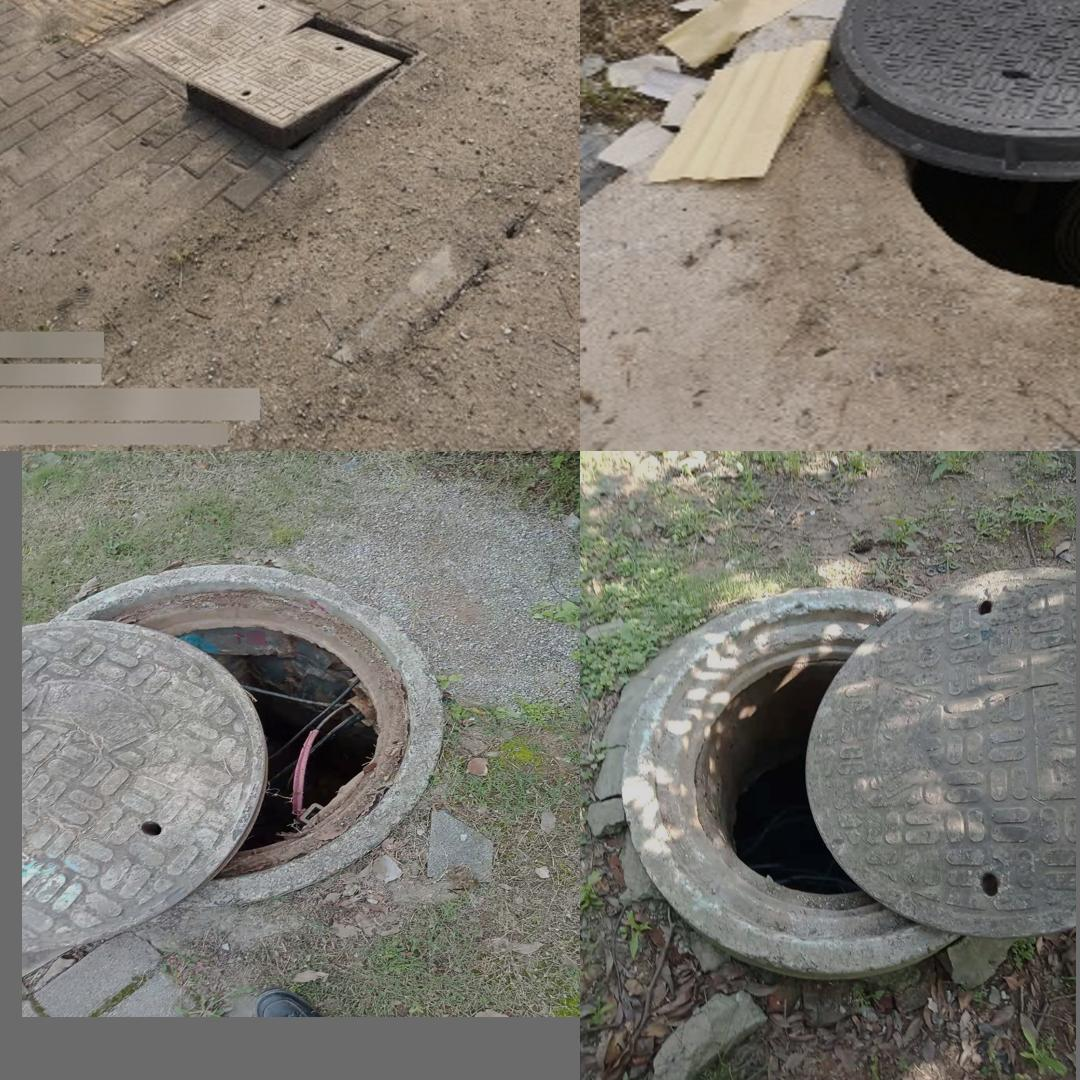uncovered: (623, 567, 1071, 976), (21, 562, 448, 953), (833, 0, 1080, 287), (108, 0, 421, 137)
